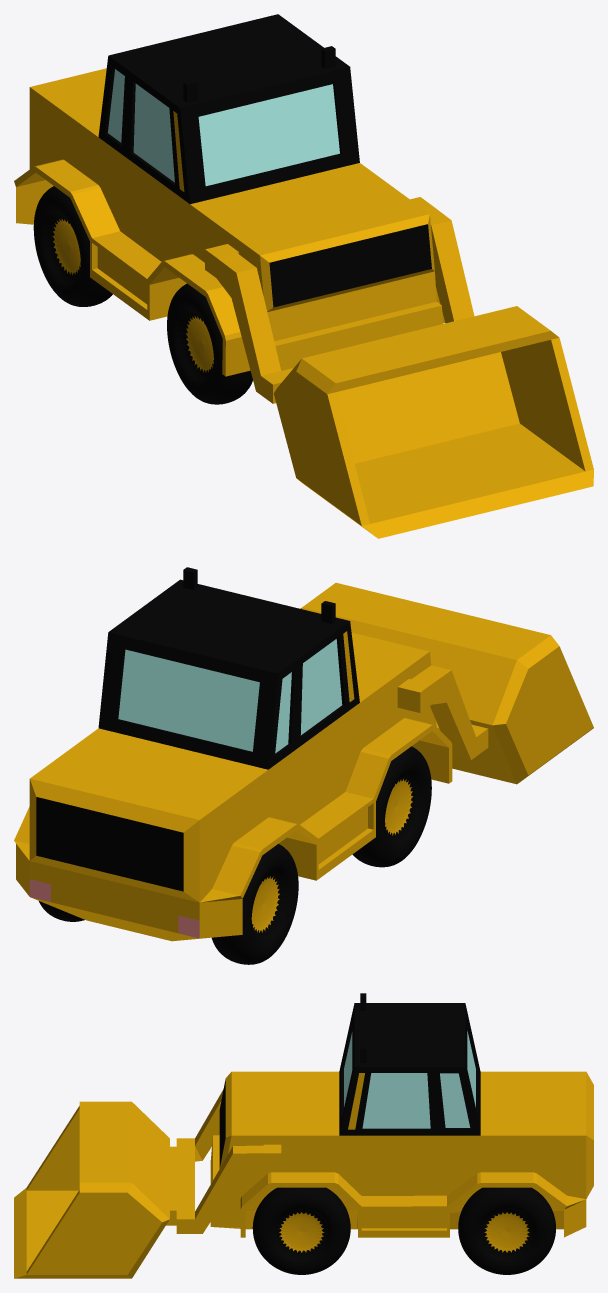
File: Bulldozer.fbx
3 renders of one model, top to bottom at view 1: azimuth 30°, elevation 25°; view 2: azimuth 150°, elevation 25°; view 3: azimuth 270°, elevation 25°, orthographic. The views are drawn at different scales.
Visible parts, largest first — view 1: Body, Blade, Arm, WheelFrontRight, WheelRearRight; view 2: Body, Blade, WheelRearRight, WheelFrontRight, Arm; view 3: Body, Blade, WheelFrontLeft, WheelRearLeft, Arm.
Part boxes in pixels (<box>): Body: <box>14,14,445,376</box>; Blade: <box>273,306,593,538</box>; Arm: <box>205,197,474,403</box>; WheelFrontRight: <box>167,283,252,404</box>; WheelRearRight: <box>33,186,112,306</box>; Body: <box>14,567,452,941</box>; Blade: <box>300,582,593,784</box>; WheelRearRight: <box>211,844,298,964</box>; WheelFrontRight: <box>352,746,431,867</box>; Arm: <box>397,665,488,759</box>; Body: <box>210,993,593,1237</box>; Blade: <box>14,1101,194,1278</box>; WheelFrontLeft: <box>252,1187,350,1274</box>; WheelRearLeft: <box>458,1187,555,1274</box>; Arm: <box>176,1089,281,1233</box>.
Size of the model in its own units: 410 by 478 by 1150.
